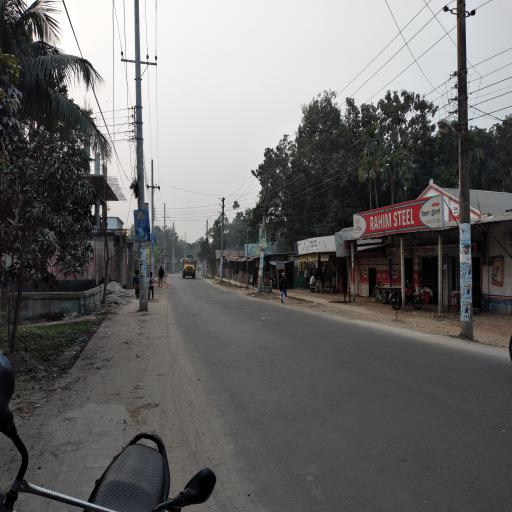auto rickshaw: (200, 265, 204, 272)
bicycle: (301, 279, 314, 291)
motorbike: (1, 352, 218, 512), (389, 286, 425, 311), (271, 277, 292, 291)
truck: (183, 255, 197, 281)
